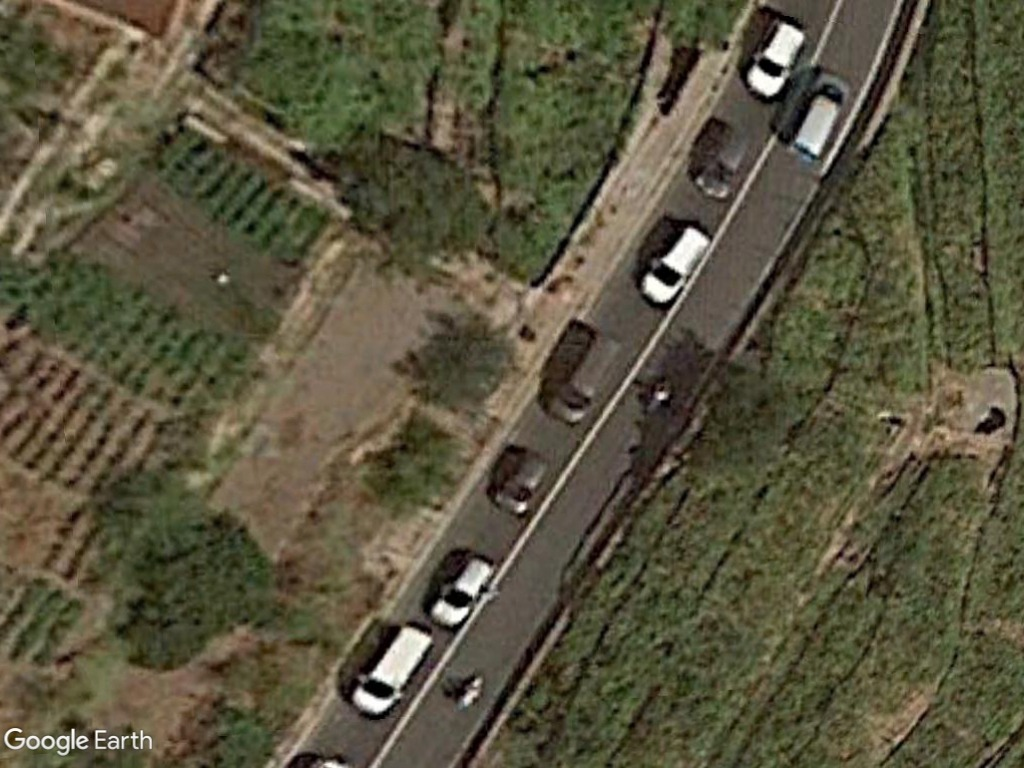car: (636, 222, 716, 309), (743, 15, 809, 101), (428, 551, 496, 628)
van: (345, 619, 437, 716), (783, 70, 854, 164)
